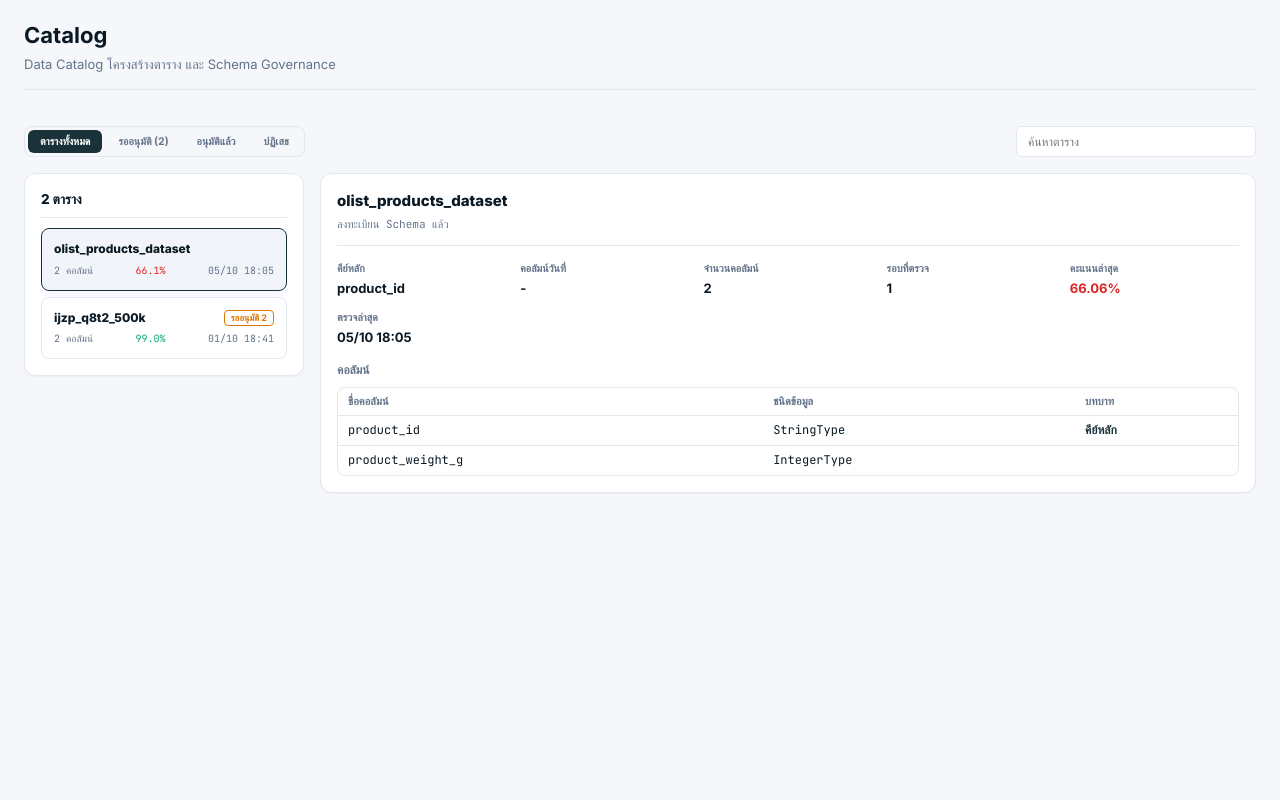
Test: shows the pending count on the tab and per table, and jumps to that table's proposals
Expected: the button "รออนุมัติ (2)" is shown, [106,130,181,153]
What coordinates should you click on to do the following:
click the element with test id "catalog-row" that starts with "ijzp_q8t2_500k"
I would click on:
 (164, 328)
Its box is [41,297,287,360].
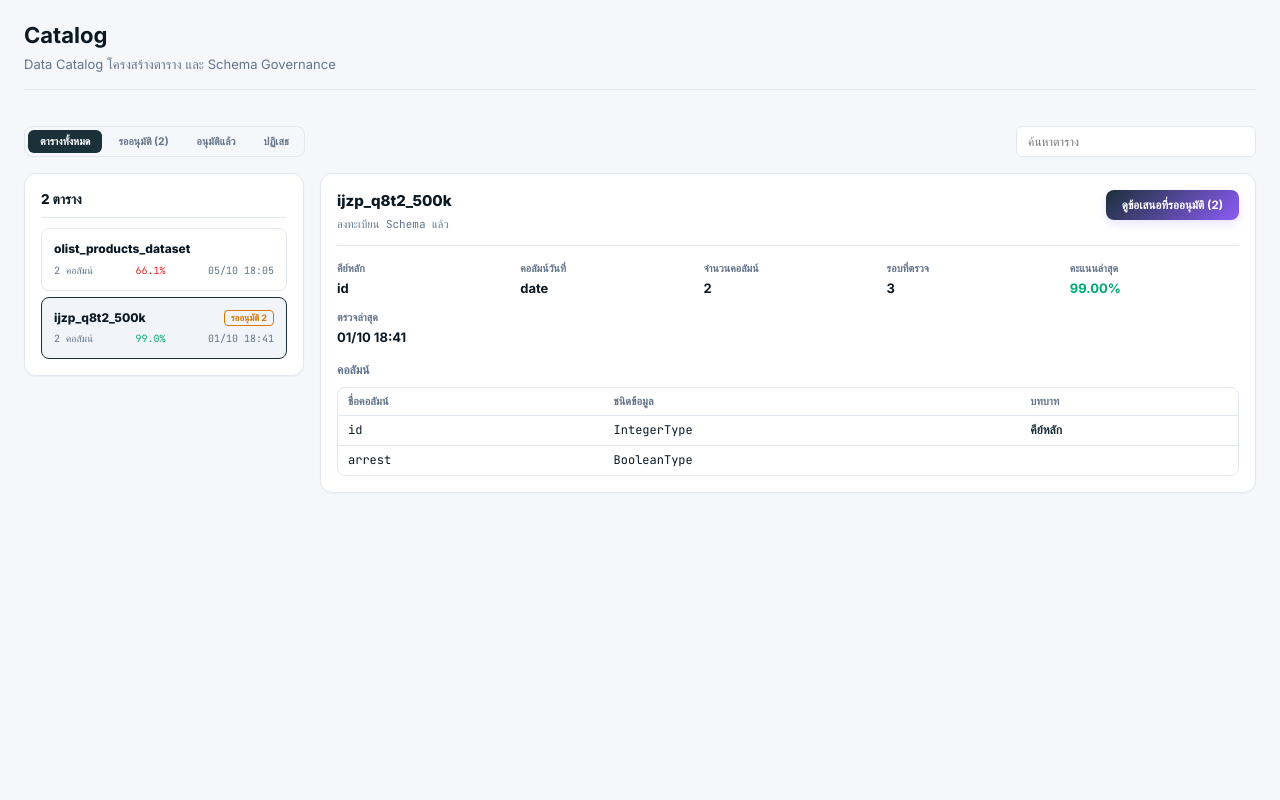
What coordinates should you click on to do the following:
click the button "ดูข้อเสนอที่รออนุมัติ (2)"
I would click on:
 (1172, 205)
Its box is [1106,190,1239,220].
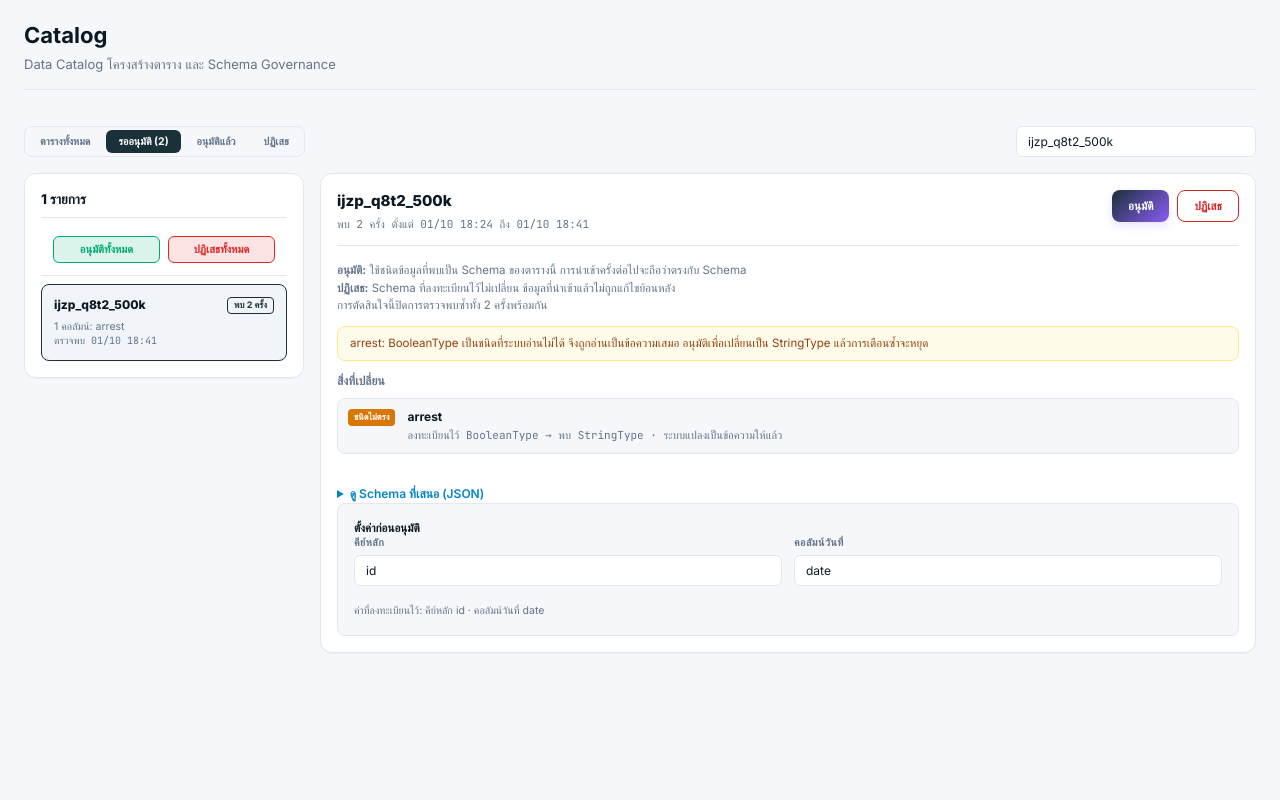
Now the field named "ค้นหาตาราง" holds "ijzp_q8t2_500k", box [1016,126,1256,157]
Now the element with test id "proposal-row" shows "พบ 2 ครั้ง", box [41,284,287,361]
